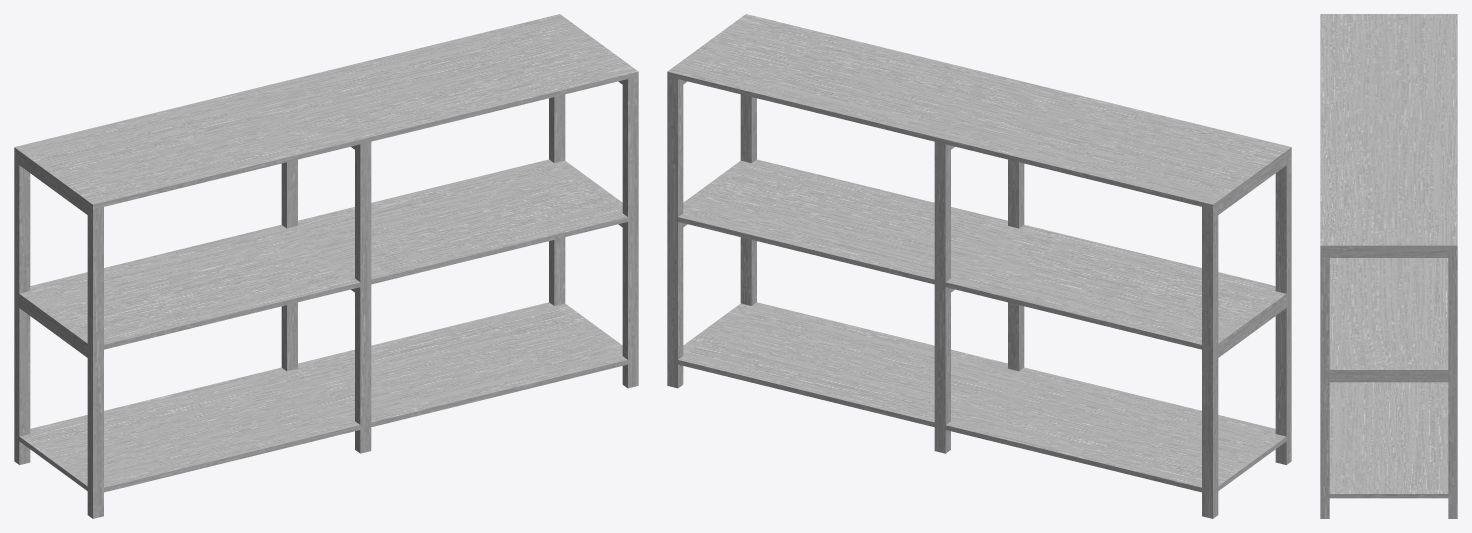
The model's file is cabinet_01.fbx.
3 views of the same model, side by side, from view 1: azimuth 30°, elevation 25°; view 2: azimuth 150°, elevation 25°; view 3: azimuth 270°, elevation 25° (orthographic). The views are drawn at different scales.
Parts seen in each view (by area): view 1: pCube11; view 2: pCube11; view 3: pCube11.
Boxes of the visible parts, x1,y1,x2,y2 form: pCube11: [14, 14, 638, 518]; pCube11: [667, 14, 1291, 518]; pCube11: [1320, 14, 1457, 518].
Size of the model in its own units: 120 by 66 by 30.
1 material, 1 textured.
